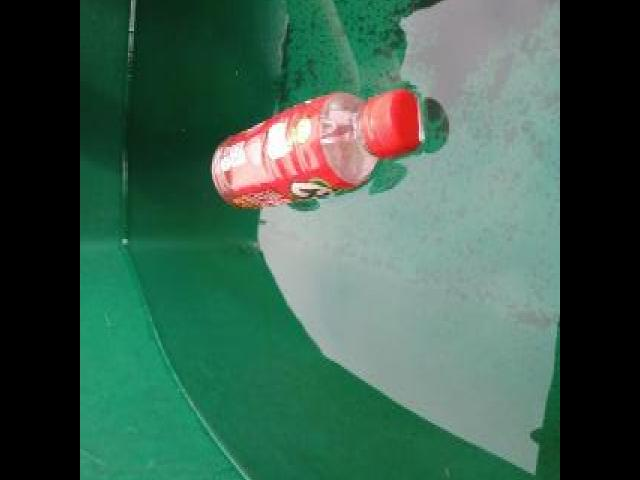Bottle: (211, 83, 428, 215)
